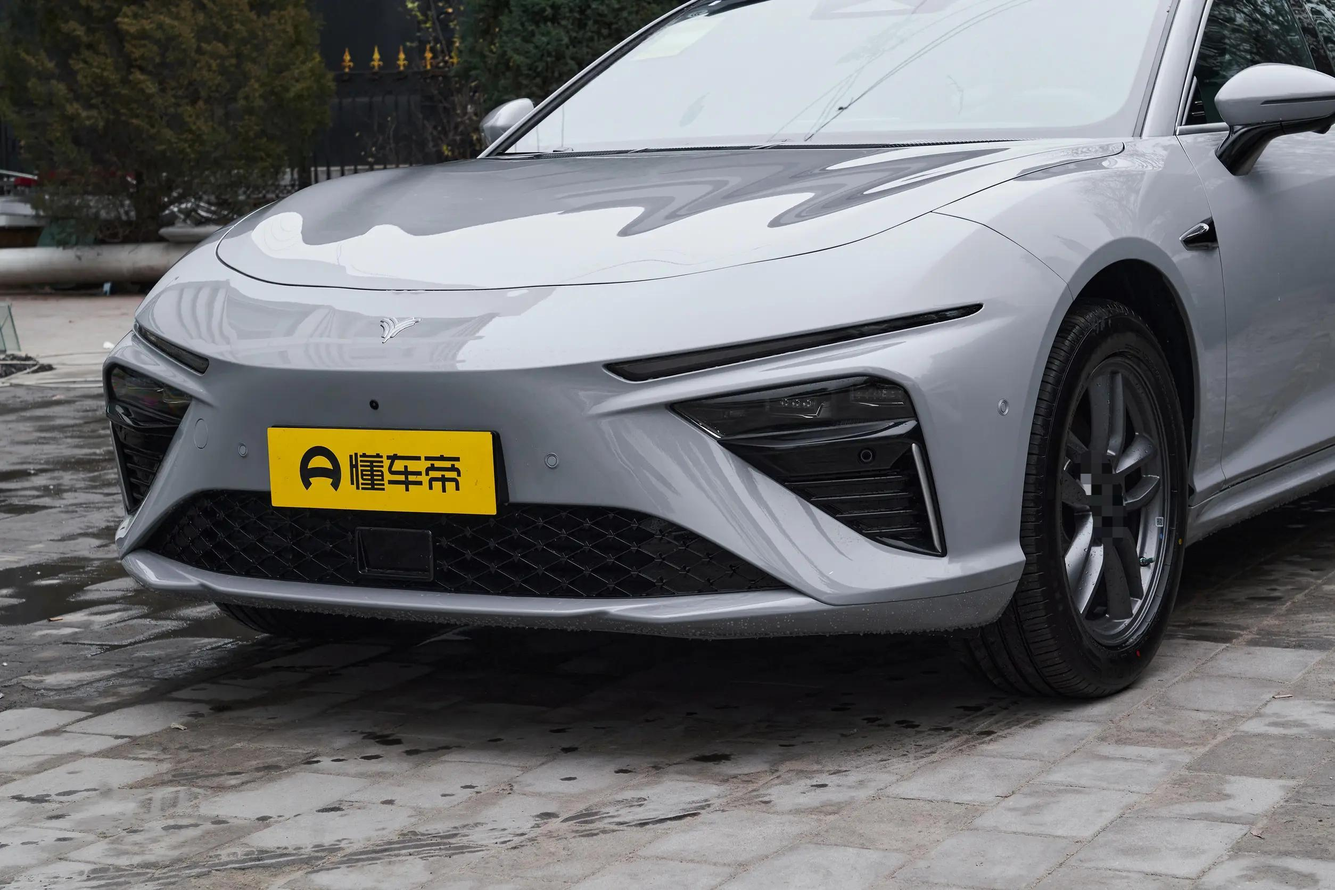NETA: (378, 316, 422, 344)
